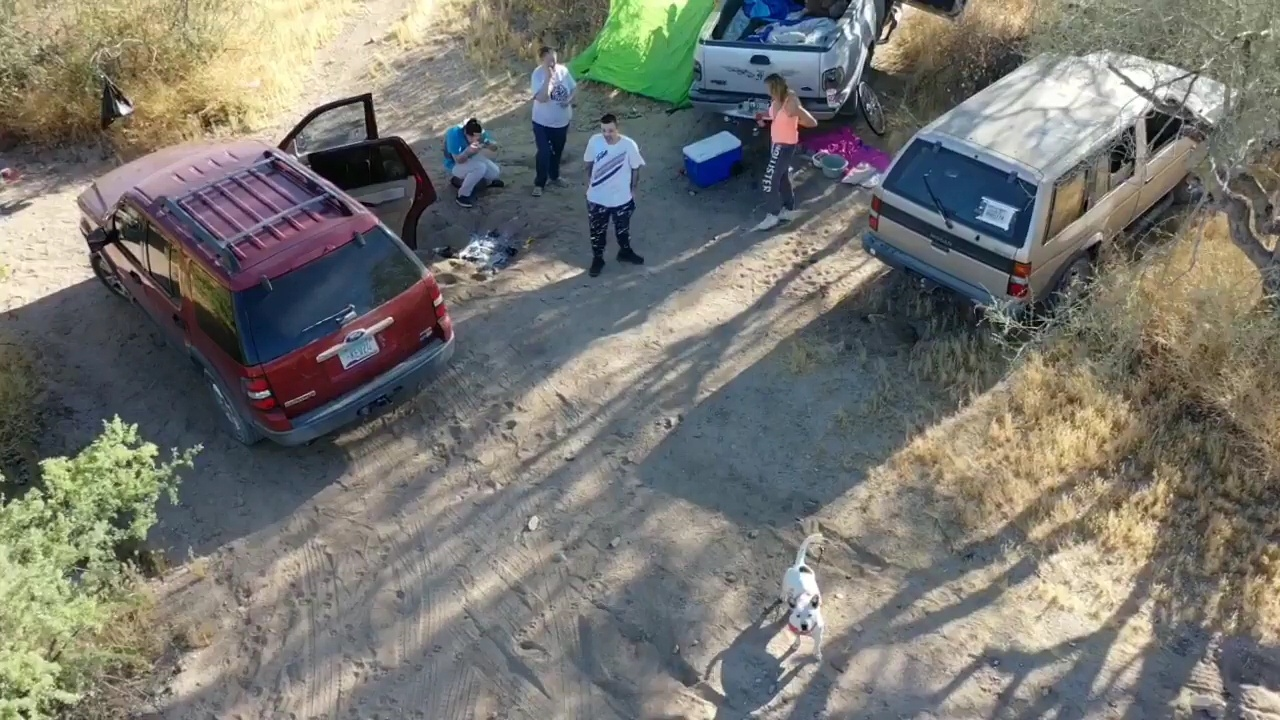araba: (66, 120, 451, 452), (864, 37, 1247, 320)
insan: (748, 71, 821, 234), (583, 103, 646, 281), (526, 42, 582, 197), (446, 111, 504, 208)
